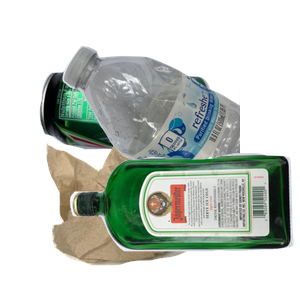glass: (67, 150, 300, 300)
metal: (37, 64, 245, 214)
plastic: (60, 44, 300, 224)
trash: (44, 136, 277, 300)
